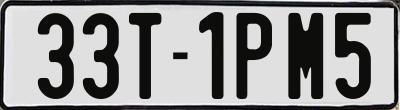1: (197, 12, 224, 99)
3: (81, 12, 121, 98), (37, 13, 74, 100)
5: (334, 12, 371, 104)
M: (288, 11, 325, 102)
P: (235, 10, 271, 101)
T: (128, 10, 165, 98)
